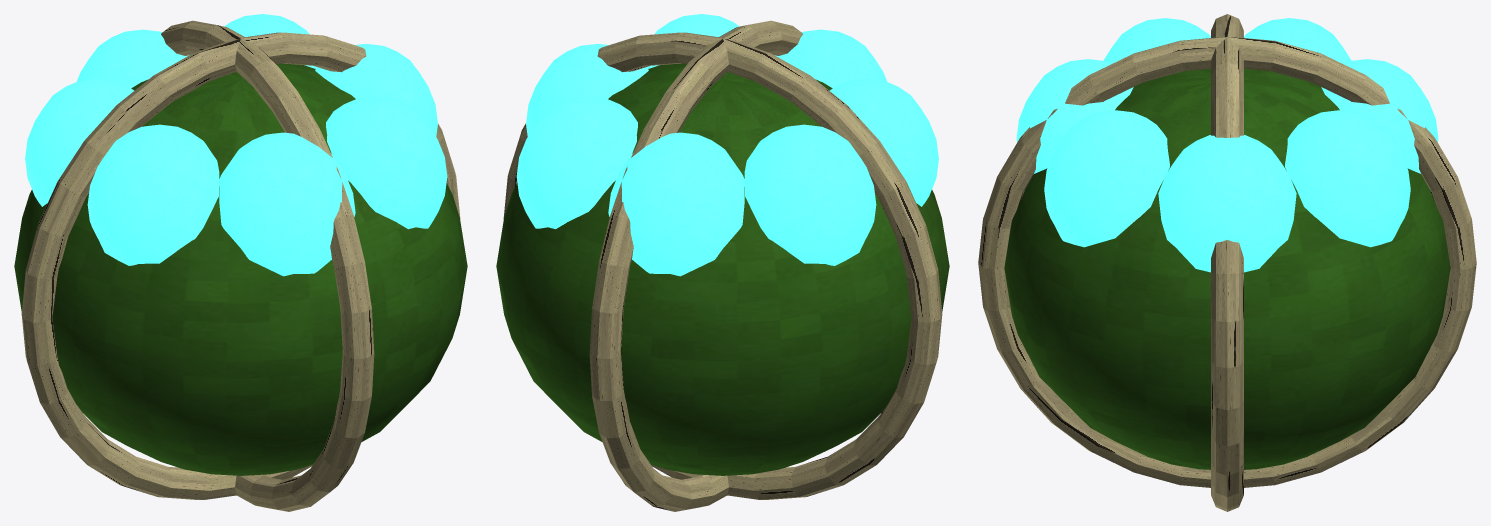
The model's file is eq-gooball.glb.
3 views of the same model, side by side, from view 1: azimuth 30°, elevation 25°; view 2: azimuth 150°, elevation 25°; view 3: azimuth 270°, elevation 25° (orthographic).
Visible parts, largest first — view 1: Gel, Fragile cage.001, Fragile cage, Gel blister.004, Gel blister.005, Gel blister.006, Gel blister.003, Gel blister, Gel blister.002, Gel blister.001; view 2: Gel, Fragile cage.001, Fragile cage, Gel blister.003, Gel blister.002, Gel blister.001, Gel blister.004, Gel blister, Gel blister.005, Gel blister.006; view 3: Gel, Fragile cage, Gel blister, Gel blister.001, Gel blister.006, Fragile cage.001, Gel blister.002, Gel blister.005, Gel blister.003, Gel blister.004.
Part boxes in pixels (bbox=[...]): Gel: bbox=[14, 63, 467, 475]; Fragile cage.001: bbox=[21, 32, 460, 499]; Fragile cage: bbox=[161, 20, 374, 511]; Gel blister.004: bbox=[87, 124, 219, 265]; Gel blister.005: bbox=[219, 132, 355, 276]; Gel blister.006: bbox=[326, 96, 447, 229]; Gel blister.003: bbox=[25, 79, 134, 206]; Gel blister: bbox=[315, 44, 437, 136]; Gel blister.002: bbox=[76, 29, 189, 88]; Gel blister.001: bbox=[224, 14, 316, 68]; Gel: bbox=[496, 63, 949, 475]; Fragile cage.001: bbox=[503, 32, 942, 499]; Fragile cage: bbox=[589, 20, 802, 511]; Gel blister.003: bbox=[744, 124, 876, 265]; Gel blister.002: bbox=[608, 132, 744, 276]; Gel blister.001: bbox=[516, 96, 637, 229]; Gel blister.004: bbox=[829, 79, 938, 206]; Gel blister: bbox=[526, 44, 648, 136]; Gel blister.005: bbox=[774, 29, 887, 88]; Gel blister.006: bbox=[647, 14, 739, 68]; Gel: bbox=[1004, 68, 1450, 469]; Fragile cage: bbox=[978, 37, 1476, 487]; Gel blister: bbox=[1158, 135, 1296, 272]; Gel blister.001: bbox=[1285, 110, 1410, 247]; Gel blister.006: bbox=[1044, 110, 1169, 247]; Fragile cage.001: bbox=[1211, 14, 1243, 511]; Gel blister.002: bbox=[1321, 59, 1438, 173]; Gel blister.005: bbox=[1016, 59, 1133, 173]; Gel blister.003: bbox=[1244, 18, 1351, 63]; Gel blister.004: bbox=[1103, 18, 1210, 63].
Bounding box in the file's own units: 0.244 × 0.244 × 0.244.
Materials: 3 (3 with a texture image).
